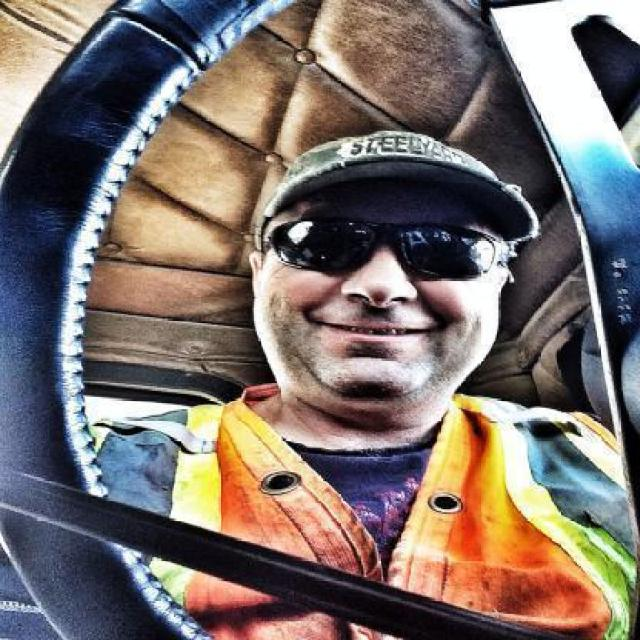face_nomask: (272, 214, 492, 361)
glasses: (258, 199, 512, 275)
head_nohelmet: (262, 140, 542, 226)
